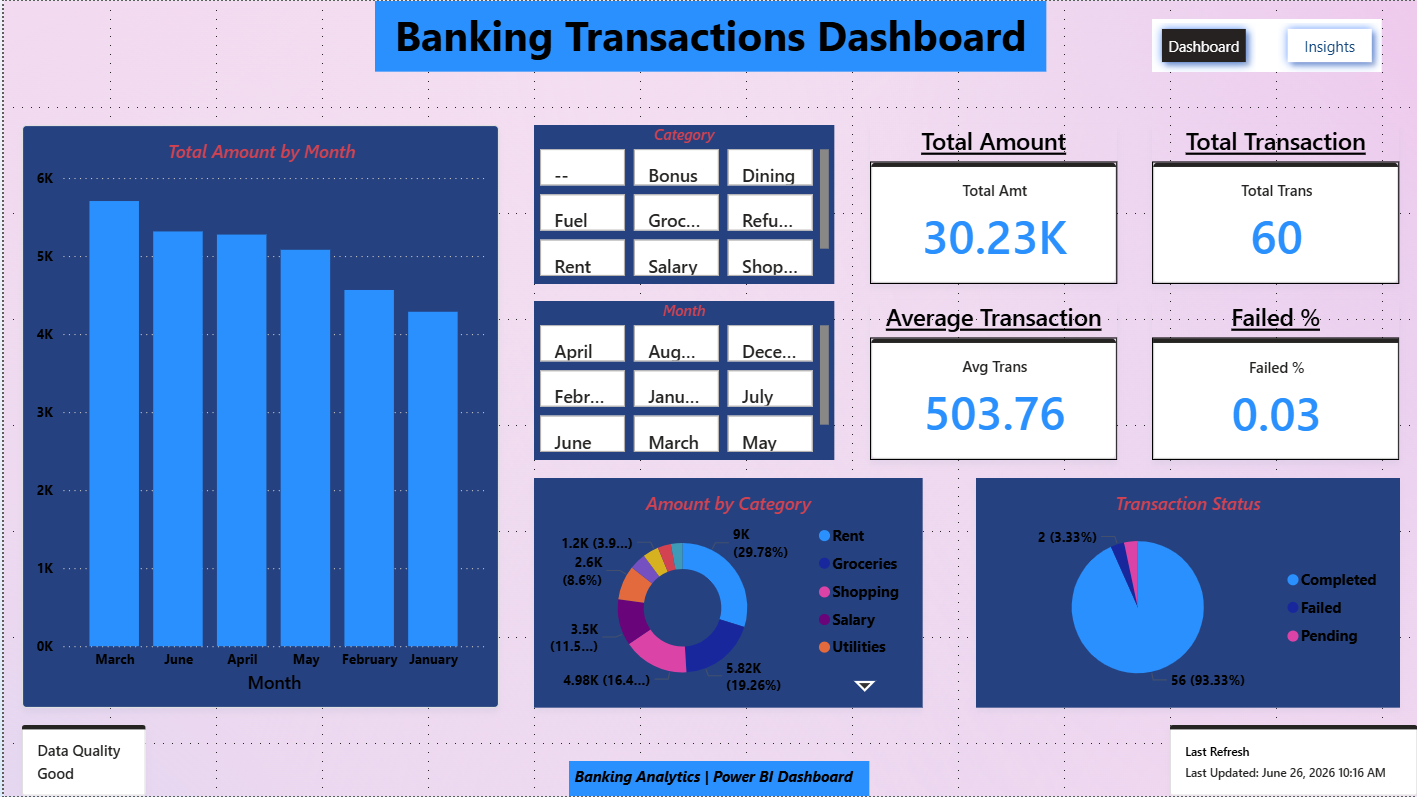

The page's visual inventory and layout, read from the dashboard file:
{"tool":"powerbi","page":{"name":"Dashboard","canvas":[1280,720],"ordinal":0},"visuals":[{"type":"cardVisual","title":"Total Amount","fields":{"Data":["Bank Data Set.Total Amt"]},"box":[784,112,224,144],"z":0},{"type":"cardVisual","title":"Total Transaction","fields":{"Data":["Bank Data Set.Total Trans"]},"box":[1040,112,224,144],"z":1000},{"type":"cardVisual","title":"Average Transaction","fields":{"Data":["Bank Data Set.Avg Trans"]},"box":[784,272,224,144],"z":2000},{"type":"cardVisual","title":"Failed %","fields":{"Data":["Bank Data Set.Failed %"]},"box":[1040,272,224,144],"z":3000},{"type":"clusteredColumnChart","title":"Total Amount by Month","fields":{"Category":["DateTable.Month"],"Y":["Bank Data Set.Total Amt"]},"box":[16,112,432,528],"z":4000},{"type":"advancedSlicerVisual","fields":{"Values":["DateTable.Month"]},"box":[480,272,272,144],"z":5000},{"type":"donutChart","title":"Amount by Category","fields":{"Category":["Bank Data Set.Category"],"Y":["Bank Data Set.Total Amt"]},"box":[480,432,352,208],"z":6000},{"type":"pieChart","title":"Transaction Status","fields":{"Category":["Bank Data Set.Status"],"Y":["Bank Data Set.Total Trans"]},"box":[880,432,384,208],"z":7000},{"type":"textbox","box":[336,0,608,64],"z":8000},{"type":"textbox","box":[512,688,272,32],"z":9000},{"type":"advancedSlicerVisual","fields":{"Values":["Bank Data Set.Category"]},"box":[480,112,272,144],"z":10000},{"type":"pageNavigator","box":[1040,16,208,48],"z":11000},{"type":"cardVisual","fields":{"Data":["Bank Data Set.Last Refresh"]},"box":[1056,656,224,64],"z":12000},{"type":"cardVisual","fields":{"Data":["Bank Data Set.Data Quality"]},"box":[16,656,112,64],"z":13000}]}

Visuals, with their boxes in screenshot pixels (x1, y1, x2, y2), scaled from the page's 1280x720 canvas onto the 1417x797 screenshot:
"Total Amount" cardVisual: x1=868 y1=124 x2=1116 y2=283
"Total Transaction" cardVisual: x1=1151 y1=124 x2=1399 y2=283
"Average Transaction" cardVisual: x1=868 y1=301 x2=1116 y2=460
"Failed %" cardVisual: x1=1151 y1=301 x2=1399 y2=460
"Total Amount by Month" clusteredColumnChart: x1=18 y1=124 x2=496 y2=708
advancedSlicerVisual - DateTable.Month: x1=531 y1=301 x2=832 y2=460
"Amount by Category" donutChart: x1=531 y1=478 x2=921 y2=708
"Transaction Status" pieChart: x1=974 y1=478 x2=1399 y2=708
textbox: x1=372 y1=0 x2=1045 y2=71
textbox: x1=567 y1=762 x2=868 y2=796
advancedSlicerVisual - Bank Data Set.Category: x1=531 y1=124 x2=832 y2=283
pageNavigator: x1=1151 y1=18 x2=1382 y2=71
cardVisual - Bank Data Set.Last Refresh: x1=1169 y1=726 x2=1416 y2=796
cardVisual - Bank Data Set.Data Quality: x1=18 y1=726 x2=142 y2=796
